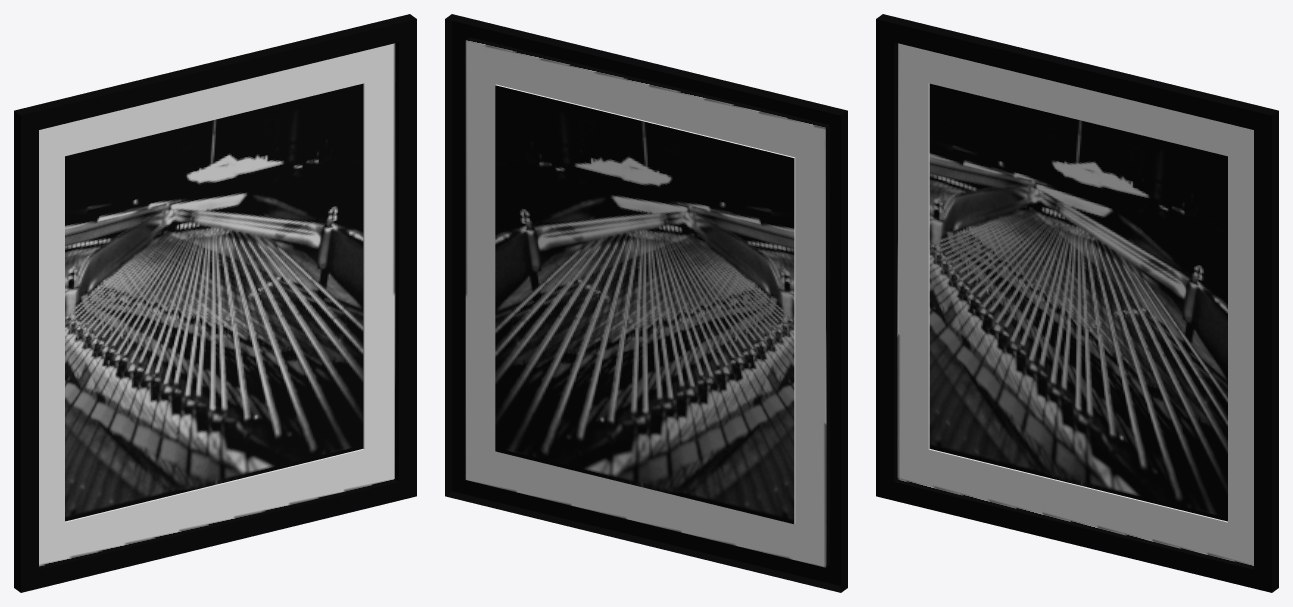
File: SMn_Frame_Photo08.fbx
3 views of the same model, side by side, from view 1: azimuth 30°, elevation 25°; view 2: azimuth 150°, elevation 25°; view 3: azimuth 330°, elevation 25° (orthographic).
Parts seen in each view (by area): view 1: SMn_Frame_Photo08; view 2: SMn_Frame_Photo08; view 3: SMn_Frame_Photo08.
Part boxes in pixels (<box>): SMn_Frame_Photo08: <box>14,14,416,592</box>; SMn_Frame_Photo08: <box>445,14,847,592</box>; SMn_Frame_Photo08: <box>876,14,1278,592</box>.
Bounding box in the file's own units: 0.66 × 0.76 × 0.02.
